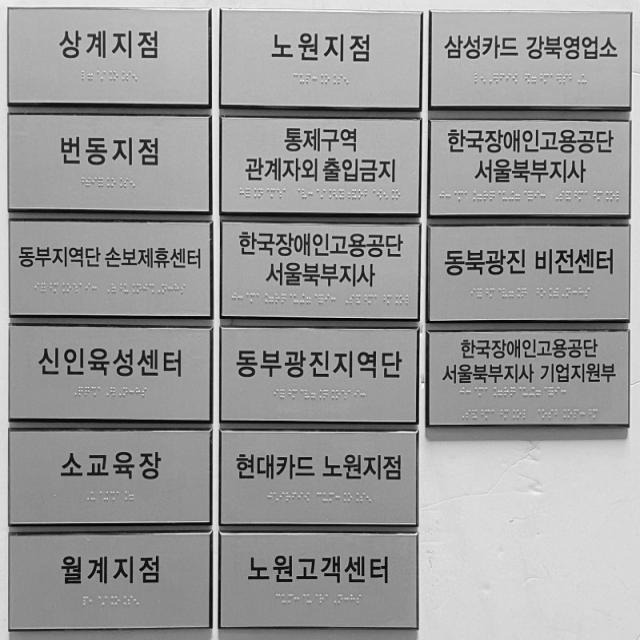braiile: (81, 69, 88, 82), (471, 72, 478, 85), (480, 72, 487, 85), (486, 72, 493, 85), (499, 72, 506, 85), (87, 70, 94, 82), (93, 70, 100, 82), (112, 69, 119, 81), (125, 69, 132, 81), (91, 176, 98, 188), (110, 176, 117, 188), (129, 176, 136, 188), (161, 283, 168, 295), (82, 595, 89, 607), (101, 595, 108, 607), (114, 595, 121, 607), (133, 596, 140, 608), (357, 188, 364, 200), (243, 292, 250, 304), (293, 292, 300, 304), (438, 190, 445, 202), (444, 190, 451, 202), (457, 190, 464, 202), (463, 190, 470, 202), (483, 190, 490, 202), (533, 190, 540, 202), (552, 190, 559, 202), (590, 190, 597, 202), (584, 287, 591, 299), (492, 72, 499, 84), (512, 72, 519, 84), (574, 72, 581, 84), (318, 292, 324, 305), (324, 292, 330, 305), (330, 292, 336, 305), (496, 190, 502, 203), (502, 190, 508, 203), (514, 190, 520, 203), (506, 72, 512, 85), (117, 177, 124, 188), (91, 282, 98, 293), (96, 386, 103, 397), (103, 386, 110, 397), (122, 387, 129, 398), (128, 387, 135, 398), (115, 491, 122, 502), (294, 188, 301, 199), (609, 190, 616, 201), (546, 287, 553, 298), (273, 388, 280, 399), (304, 388, 311, 399), (347, 389, 354, 400), (100, 70, 106, 82), (106, 70, 112, 82), (132, 70, 138, 82), (79, 176, 85, 188), (85, 176, 91, 188), (98, 176, 104, 188), (104, 176, 110, 188), (40, 281, 46, 293), (79, 282, 85, 294), (117, 282, 123, 294), (123, 282, 129, 294), (136, 282, 142, 294), (89, 595, 95, 607), (95, 595, 101, 607), (108, 595, 114, 607), (121, 595, 127, 607), (127, 596, 133, 608), (293, 72, 299, 84), (299, 73, 305, 85), (318, 73, 324, 85), (324, 73, 330, 85), (337, 73, 343, 85), (344, 73, 350, 85), (239, 187, 245, 199), (245, 187, 251, 199), (251, 187, 257, 199), (257, 187, 263, 199), (264, 187, 270, 199), (345, 188, 351, 200), (351, 188, 357, 200), (364, 188, 370, 200), (370, 188, 376, 200), (376, 188, 382, 200), (382, 188, 388, 200), (389, 188, 395, 200), (395, 188, 401, 200), (231, 292, 237, 304), (250, 292, 256, 304), (256, 292, 262, 304), (262, 292, 268, 304), (268, 292, 274, 304), (280, 292, 286, 304), (287, 292, 293, 304), (300, 292, 306, 304), (306, 292, 312, 304), (312, 292, 318, 304), (342, 294, 348, 306), (348, 293, 354, 305), (355, 293, 361, 305), (361, 293, 367, 305), (368, 293, 374, 305), (374, 293, 380, 305), (380, 293, 386, 305), (392, 293, 398, 305), (399, 294, 405, 306), (451, 190, 457, 202), (470, 190, 476, 202), (489, 190, 495, 202), (508, 190, 514, 202), (528, 190, 534, 202), (540, 190, 546, 202), (558, 189, 564, 201), (566, 190, 572, 202), (584, 190, 590, 202), (597, 190, 603, 202), (603, 190, 609, 202), (616, 190, 622, 202), (470, 287, 476, 299), (483, 287, 489, 299), (490, 287, 496, 299), (496, 287, 502, 299), (502, 287, 508, 299), (521, 287, 527, 299), (553, 286, 559, 298), (572, 287, 578, 299), (578, 287, 584, 299), (524, 72, 530, 84), (531, 72, 537, 84), (537, 72, 543, 84), (543, 72, 549, 84), (550, 72, 556, 84), (556, 72, 562, 84), (562, 72, 568, 84), (569, 72, 575, 84), (581, 72, 587, 84), (71, 386, 78, 396), (96, 491, 103, 501), (109, 491, 116, 501), (128, 491, 135, 501), (514, 288, 521, 298), (119, 70, 125, 81), (123, 177, 129, 188), (34, 282, 40, 293), (47, 282, 53, 293), (53, 282, 59, 293), (66, 282, 72, 293), (72, 282, 78, 293), (104, 283, 110, 294), (130, 283, 136, 294), (142, 283, 148, 294), (149, 283, 155, 294), (168, 283, 174, 294), (174, 283, 180, 294), (90, 386, 96, 397), (110, 386, 116, 397), (116, 387, 122, 398), (141, 387, 147, 398), (103, 491, 109, 502), (302, 188, 308, 199), (308, 188, 314, 199), (314, 188, 320, 199), (320, 188, 326, 199), (406, 294, 412, 305), (522, 190, 528, 201), (572, 190, 578, 201), (578, 190, 584, 201), (534, 287, 540, 298), (540, 287, 546, 298), (560, 287, 566, 298), (566, 287, 572, 298), (310, 389, 316, 400), (317, 389, 323, 400), (323, 389, 329, 400), (329, 389, 335, 400), (335, 389, 341, 400), (341, 389, 347, 400), (354, 389, 360, 400), (360, 389, 366, 400), (85, 282, 91, 292), (111, 282, 116, 294), (155, 284, 161, 294), (180, 284, 186, 294), (78, 386, 84, 396), (84, 386, 90, 396), (135, 387, 141, 397), (84, 491, 90, 501), (90, 491, 96, 501), (122, 491, 128, 501), (306, 73, 311, 85), (312, 73, 317, 85), (331, 73, 336, 85), (270, 188, 276, 198), (277, 187, 282, 199), (282, 188, 288, 198), (338, 189, 344, 199), (238, 292, 243, 304), (275, 292, 280, 304), (387, 293, 392, 305), (477, 190, 482, 202), (508, 288, 514, 298), (280, 389, 286, 399), (286, 389, 292, 399), (292, 389, 298, 399), (298, 389, 304, 399), (266, 492, 272, 502), (273, 492, 279, 502), (60, 282, 65, 293), (327, 188, 332, 199), (477, 287, 482, 298), (333, 189, 338, 199)
